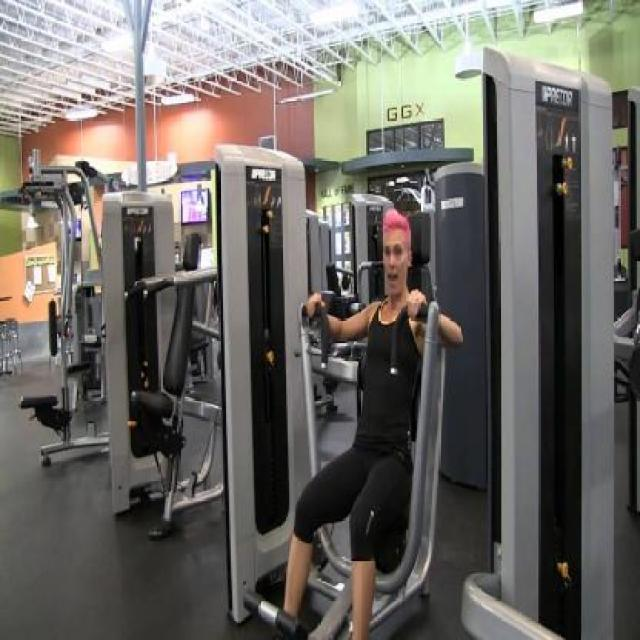Chest Press machine: (216, 137, 464, 640)
